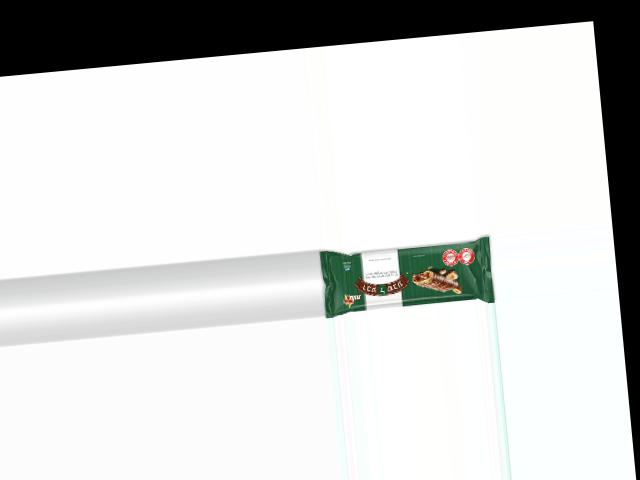chocolate: (316, 231, 496, 318)
